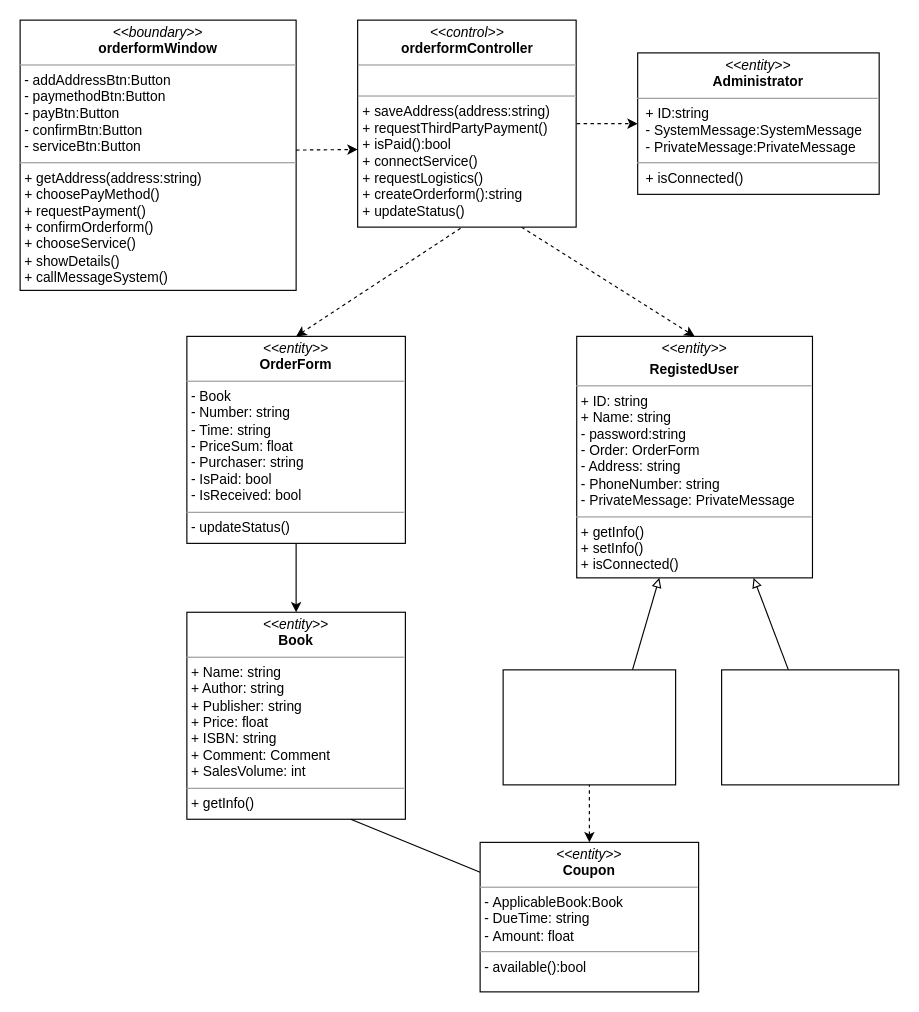
Some shapes in this 919 by 1012 pixel diagram are drawn without their labels. The centre of each missing label's shape, as x and y in pixels:
<<entity>> OrdinaryUser: point (809, 727)
<<entity>> SeniorUser - Coupon:Coupon: point (589, 727)
